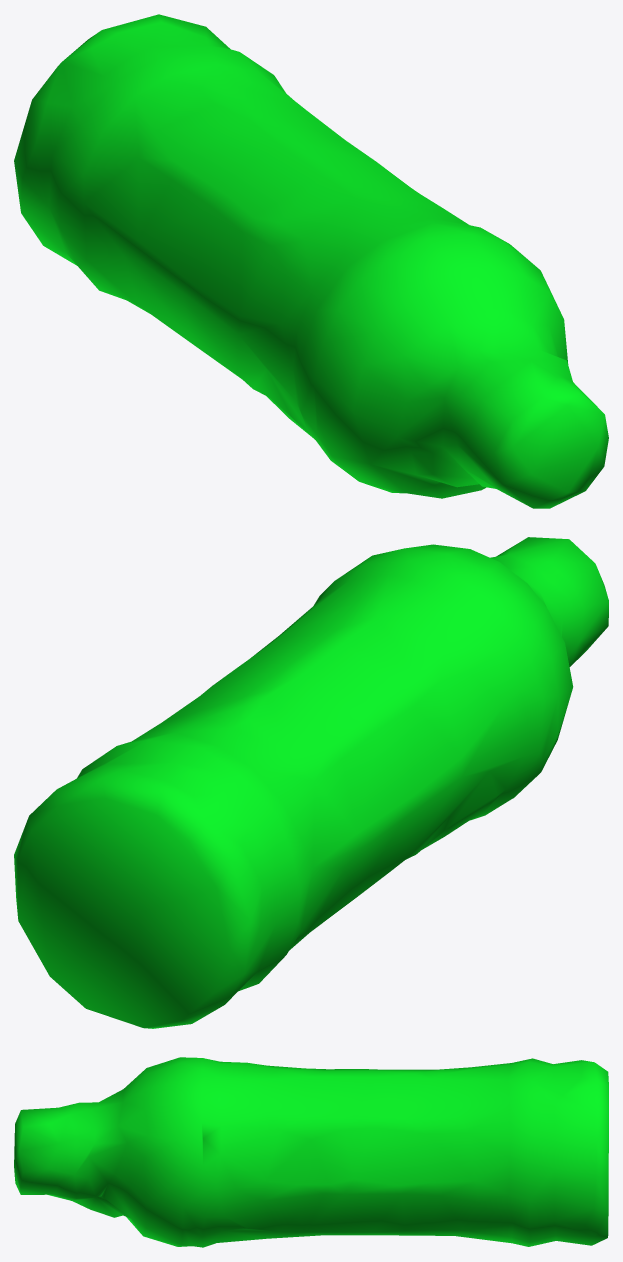
File: bottle.obj
The picture shows the model from 3 angles, top to bottom: view 1: azimuth 30°, elevation 25°; view 2: azimuth 150°, elevation 25°; view 3: azimuth 270°, elevation 25°; orthographic projection. The views are drawn at different scales.
Size of the model in its own units: 0.0711 by 0.0708 by 0.2217.
